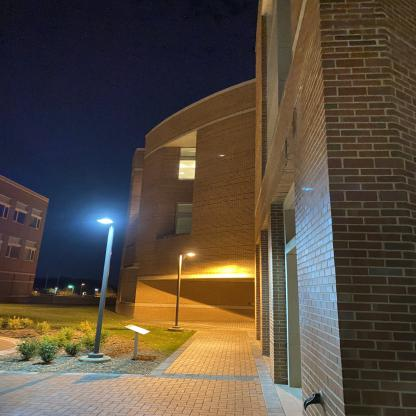eb2: (134, 9, 415, 403)
